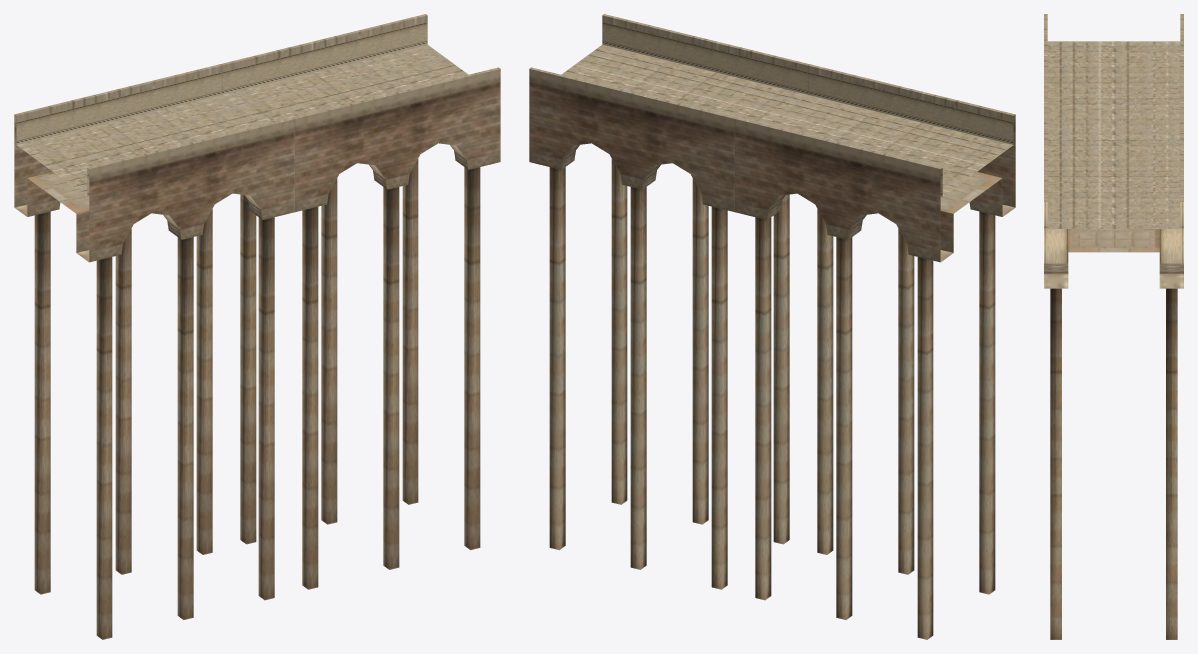
The model's file is thm_nboo_imprv_elevated_walkway_s02_l2.fbx.
The picture shows the model from 3 angles, left to right: view 1: azimuth 30°, elevation 25°; view 2: azimuth 150°, elevation 25°; view 3: azimuth 270°, elevation 25°; orthographic projection. The views are drawn at different scales.
Parts seen in each view (by area): view 1: mesh_node; view 2: mesh_node; view 3: mesh_node.
Boxes of the visible parts, box(x1,y1,x2,y2) form: mesh_node: box(14, 14, 500, 639); mesh_node: box(529, 14, 1015, 639); mesh_node: box(1044, 14, 1183, 639).
Size of the model in its own units: 16.5 by 18.3 by 5.2.
